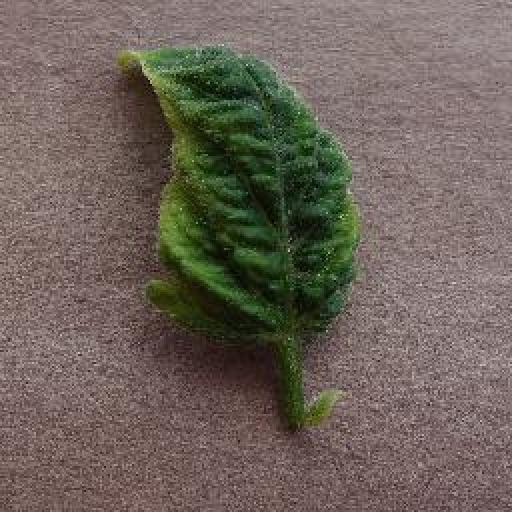disease_tomato: (124, 42, 359, 350)
